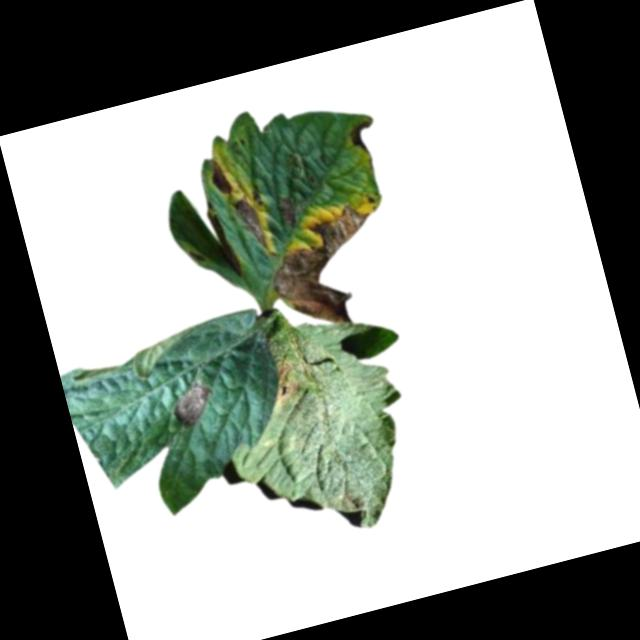Early_blight: (263, 198, 393, 338), (165, 379, 216, 431), (229, 190, 269, 254), (266, 355, 301, 401), (343, 115, 379, 157), (205, 156, 235, 200), (270, 193, 301, 230)
